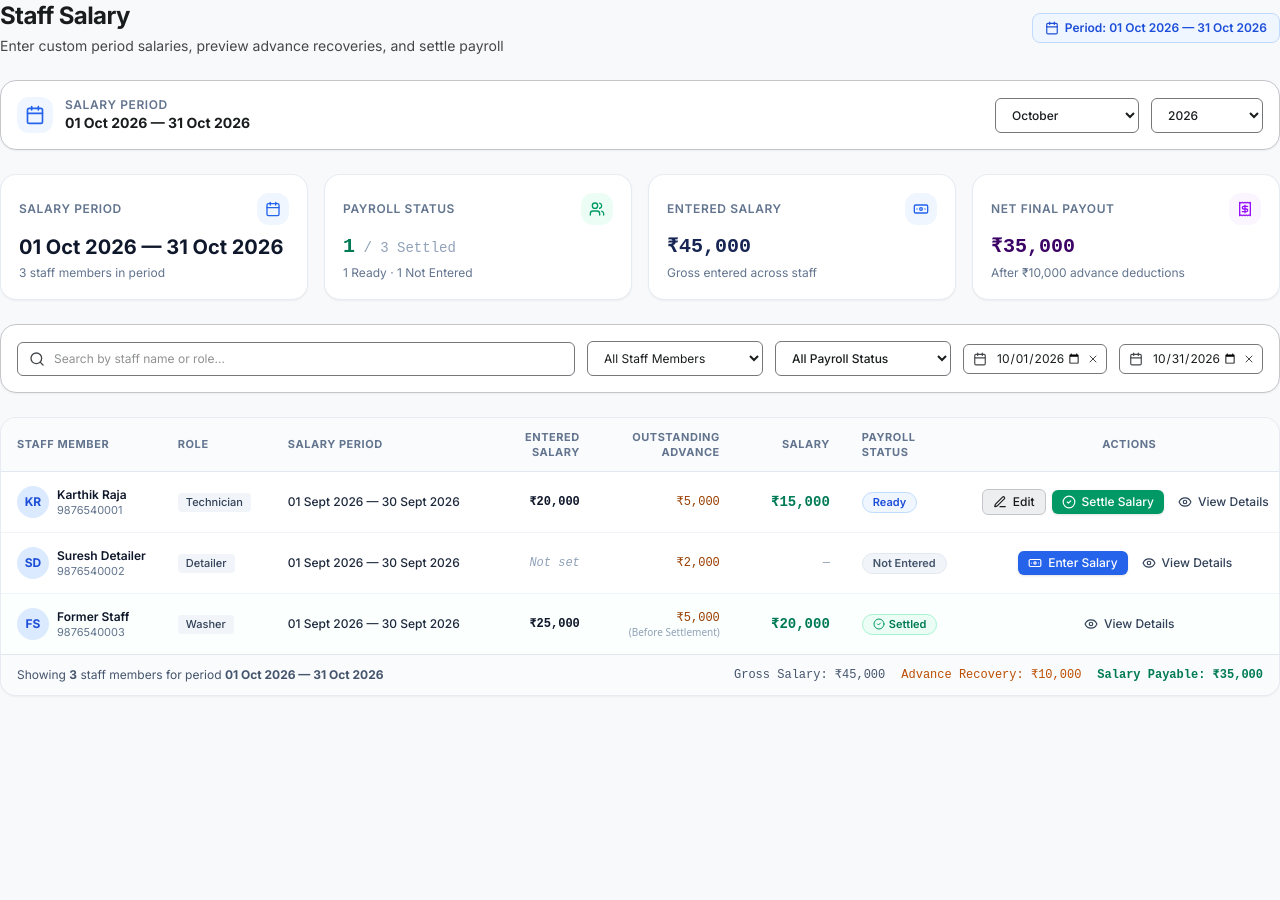
Staff Attendance & Salary › SalaryPage (/staff-salary) › 6. Displays historical settled snapshot values for completed settlements without recalculating from live advances
This screenshot has width=1280, height=900.
Expected: the text "Former Staff" is shown, [57,609,129,625]
Expected: the text "₹25,000" is shown, [529,617,580,631]
Note: Click View Details on Former Staff (the third row action)
Click the button "View Details" in the row of "FS" at (1129,624), box [1076,612,1183,636]
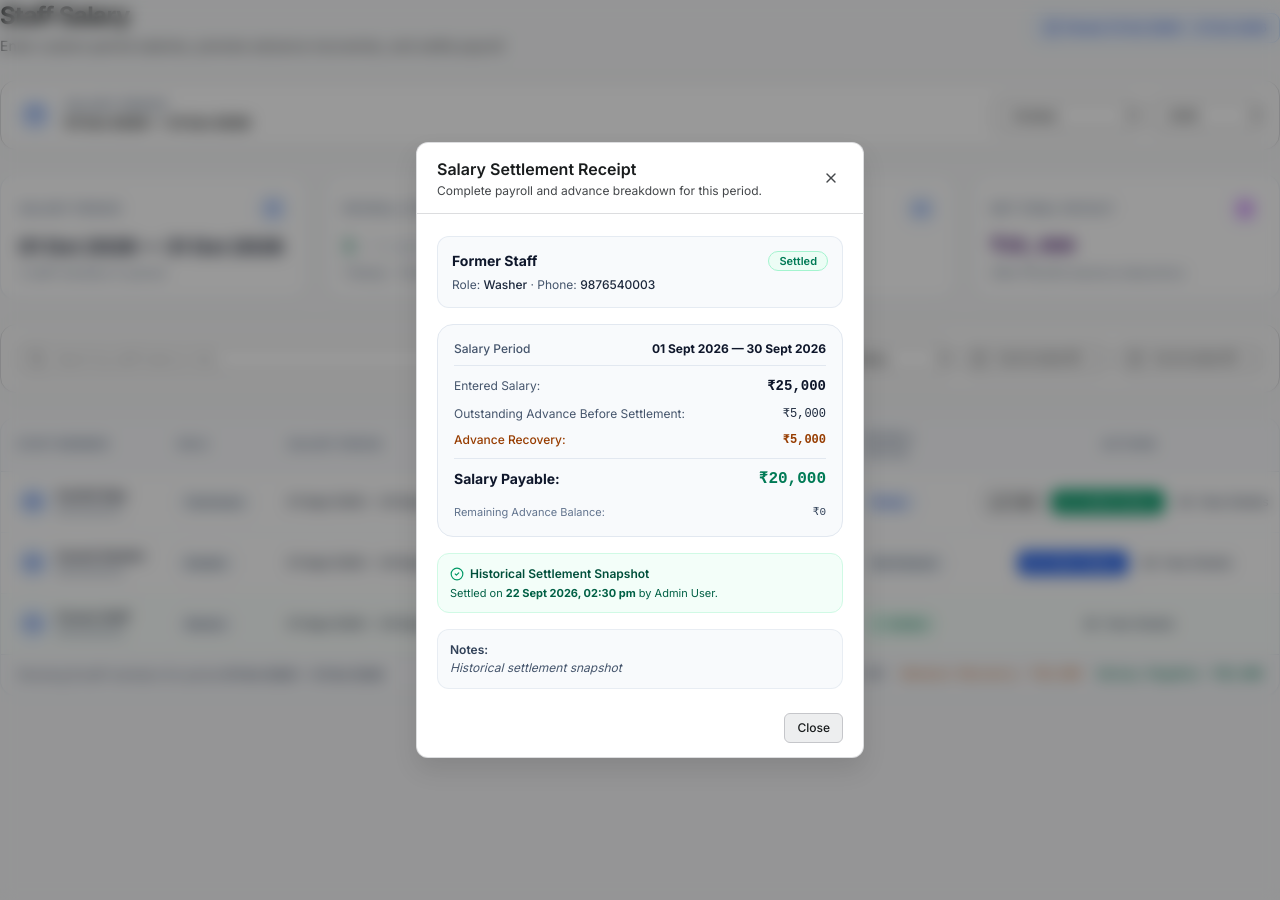
Expected: the heading "Salary Settlement Receipt" is shown, [437,158,636,178]
Expected: the text "Historical Settlement Snapshot" is shown, [470,566,649,582]
Expected: the text "Settled on 22 Sept 2026, 02:30 pm by Admin User." is shown, [450,586,718,600]
